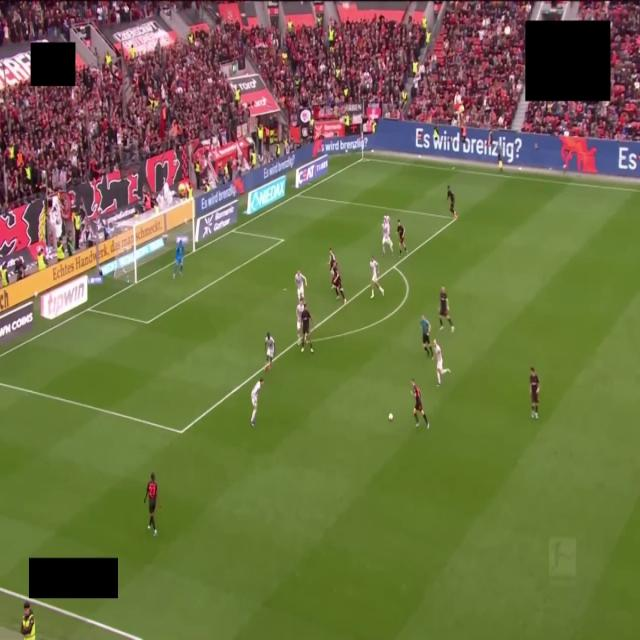ball: (389, 414, 393, 421)
player: (411, 379, 429, 428), (144, 473, 157, 535), (434, 340, 450, 386), (250, 378, 264, 427), (439, 287, 454, 332), (301, 304, 313, 353), (370, 256, 383, 298), (332, 264, 346, 303), (530, 367, 539, 418), (382, 216, 393, 255), (173, 240, 184, 279), (397, 219, 407, 255), (295, 270, 307, 300), (265, 333, 274, 370), (447, 186, 457, 218), (297, 300, 304, 343), (329, 248, 336, 271)
referee: (420, 315, 433, 359)
